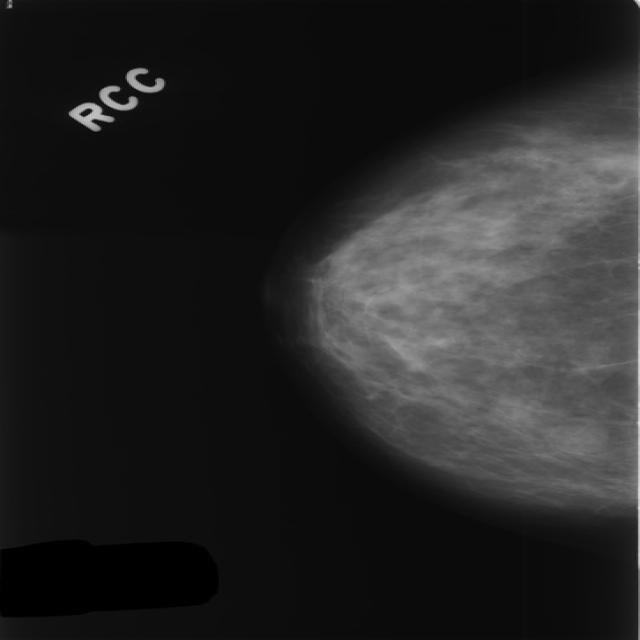tumour: (548, 416, 606, 454)
